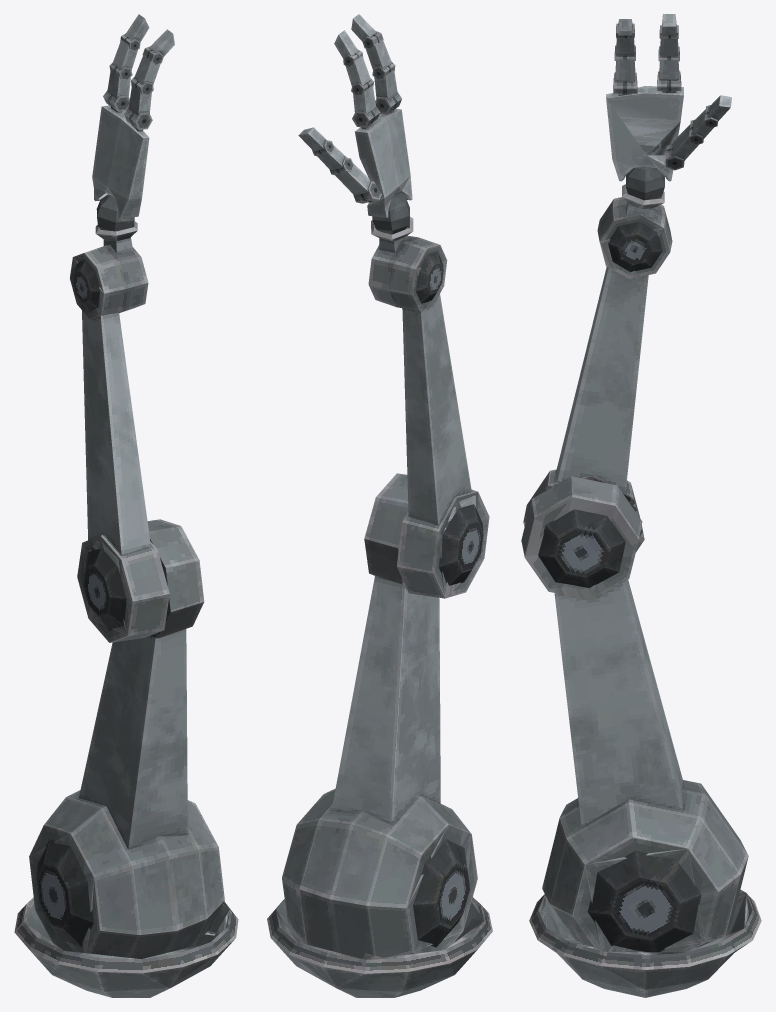
Rendered from item_robot_arm_right.glb.
The picture shows the model from 3 angles, left to right: view 1: azimuth 30°, elevation 25°; view 2: azimuth 150°, elevation 25°; view 3: azimuth 270°, elevation 25°; orthographic projection. The views are drawn at different scales.
Parts seen in each view (by area): view 1: Robot_Arm_Right; view 2: Robot_Arm_Right; view 3: Robot_Arm_Right.
Boxes of the visible parts, x1=… form: Robot_Arm_Right: x1=14, y1=14, x2=238, y2=997; Robot_Arm_Right: x1=267, y1=14, x2=492, y2=997; Robot_Arm_Right: x1=521, y1=14, x2=761, y2=997.
Bounding box in the file's own units: 0.2217 × 1.04 × 0.2292.
Materials: 1 (1 with a texture image).
